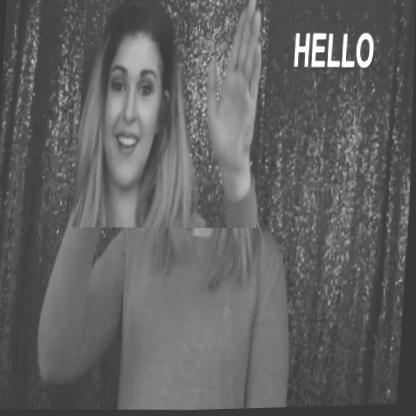Hello: (74, 0, 270, 234)
